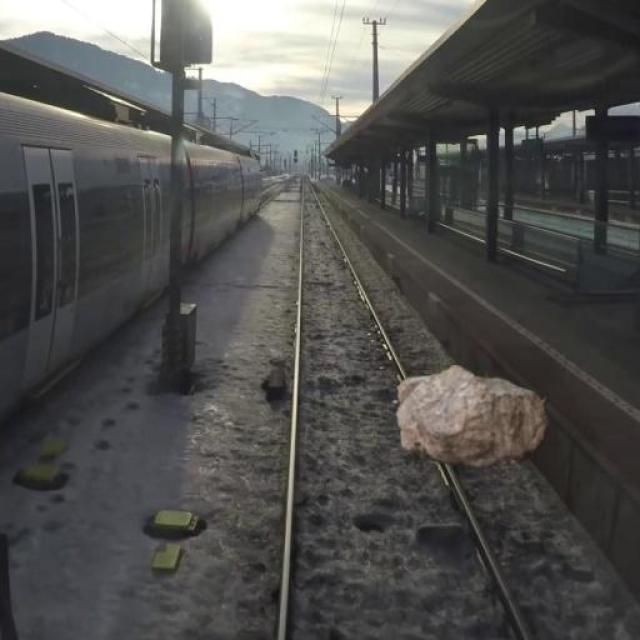Stone: (392, 358, 551, 473)
